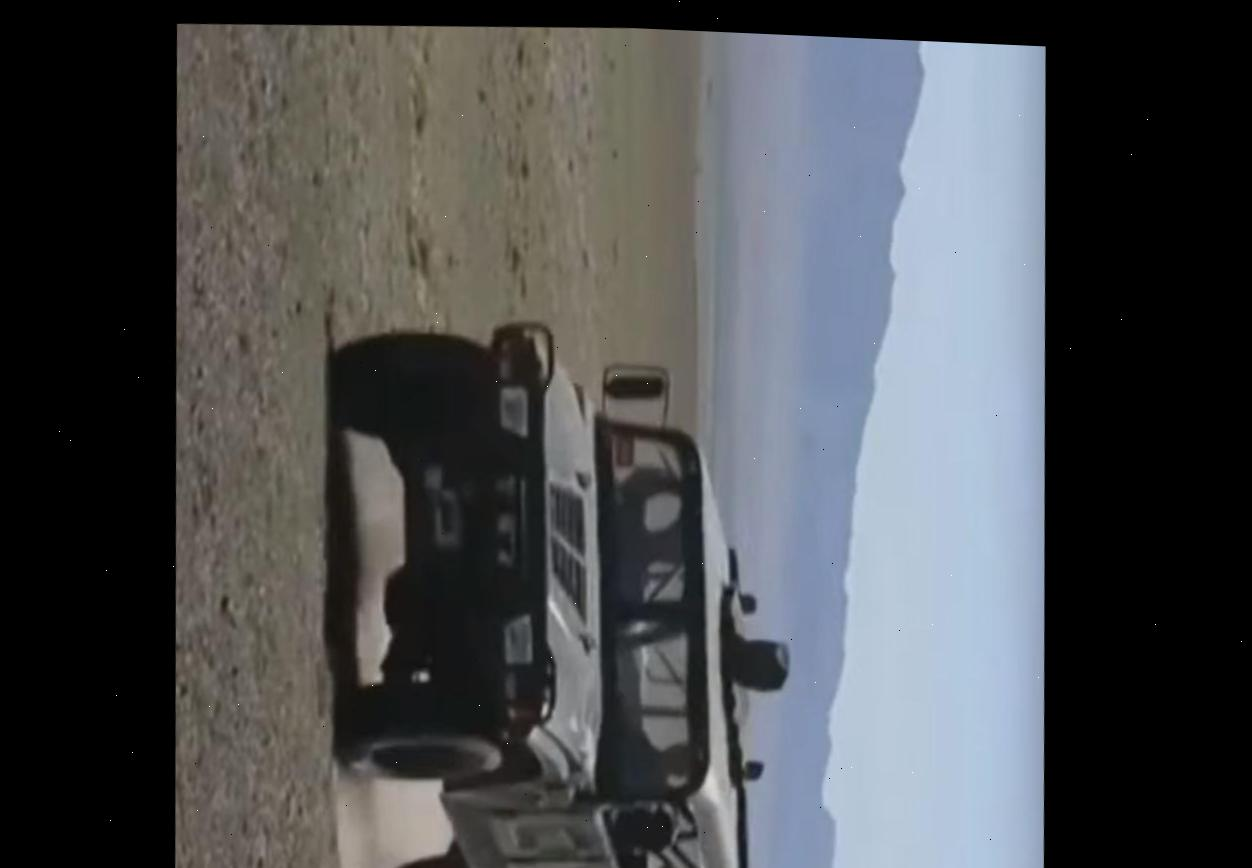armored_car: (304, 301, 811, 868)
